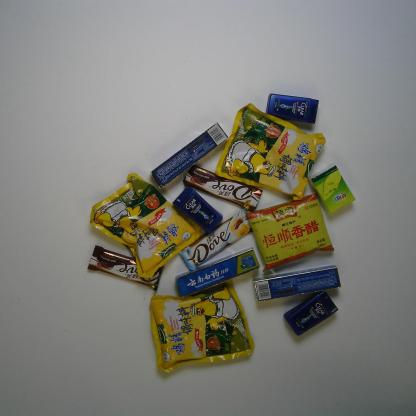Chocolate: (176, 201, 262, 272), (180, 159, 266, 215), (85, 245, 165, 292)
Personal Hygiene: (148, 121, 231, 192), (172, 245, 261, 301), (251, 263, 342, 303), (283, 290, 340, 338), (171, 184, 225, 233), (264, 92, 321, 124)
Seasoner: (88, 170, 209, 280), (213, 102, 327, 202), (148, 278, 256, 374), (243, 190, 336, 271)
Tissue: (308, 164, 357, 218)
